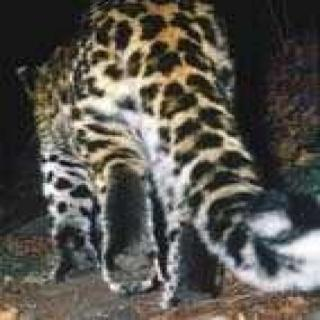Leopard: (4, 2, 320, 296)
